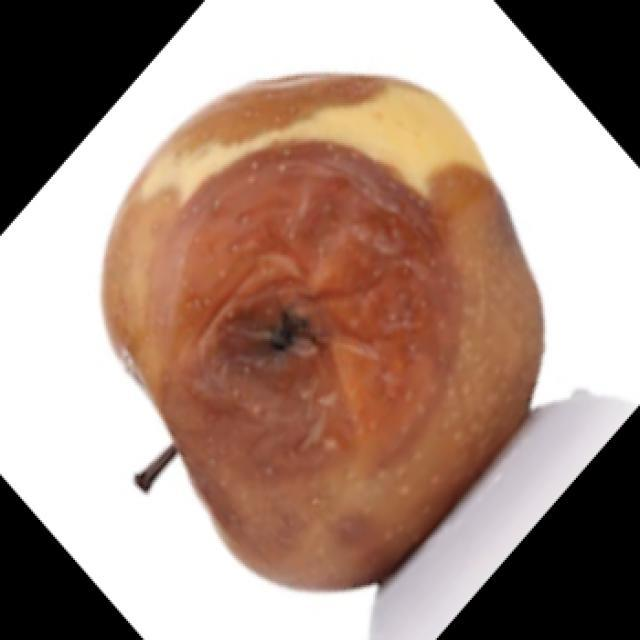Rotten: (109, 75, 518, 575)
